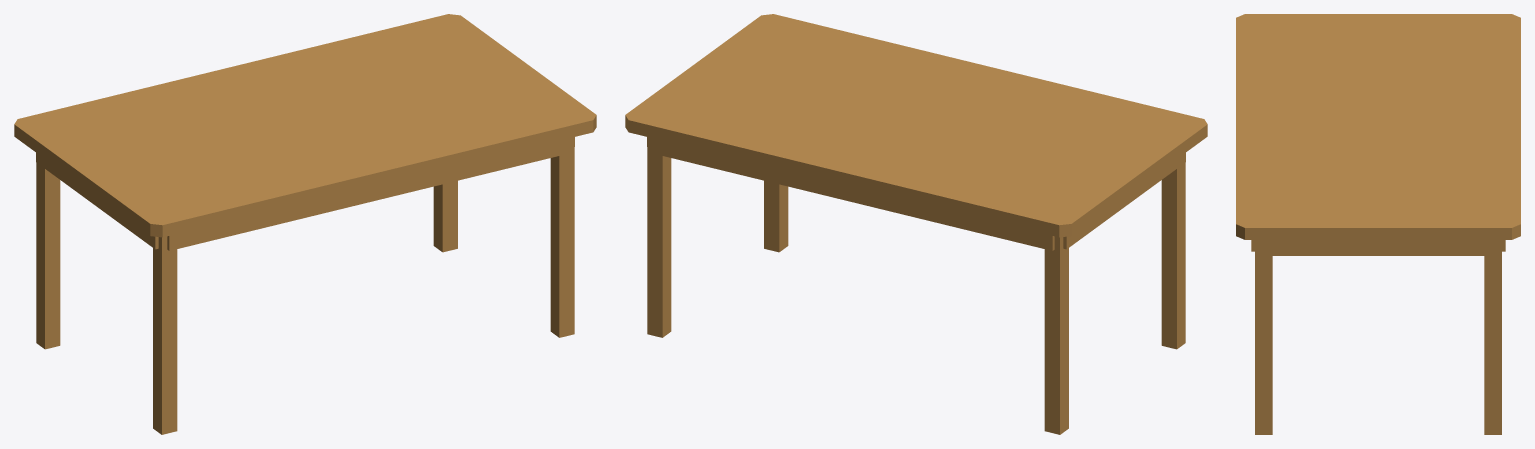
File: SM_LPI_Table_Dining_01.fbx
The picture shows the model from 3 angles, left to right: view 1: azimuth 30°, elevation 25°; view 2: azimuth 150°, elevation 25°; view 3: azimuth 270°, elevation 25°; orthographic projection.
Parts seen in each view (by area): view 1: SM_LPI_Table_Dining_01; view 2: SM_LPI_Table_Dining_01; view 3: SM_LPI_Table_Dining_01.
Part boxes in pixels (left/top/right/bottom): SM_LPI_Table_Dining_01: left=14, top=14, right=596, bottom=434; SM_LPI_Table_Dining_01: left=625, top=14, right=1207, bottom=434; SM_LPI_Table_Dining_01: left=1236, top=14, right=1520, bottom=434.
Bounding box in the file's own units: 1.6 × 0.75 × 0.9.
